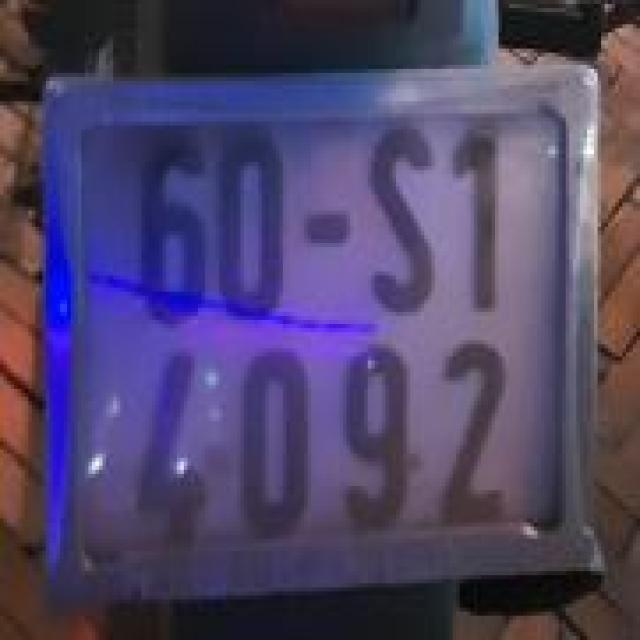0: (234, 338, 318, 549), (210, 120, 296, 326)
1: (444, 103, 528, 322)
2: (426, 332, 522, 535)
4: (125, 342, 214, 561)
6: (127, 122, 212, 344)
9: (329, 338, 414, 537)
S: (355, 117, 444, 320)
